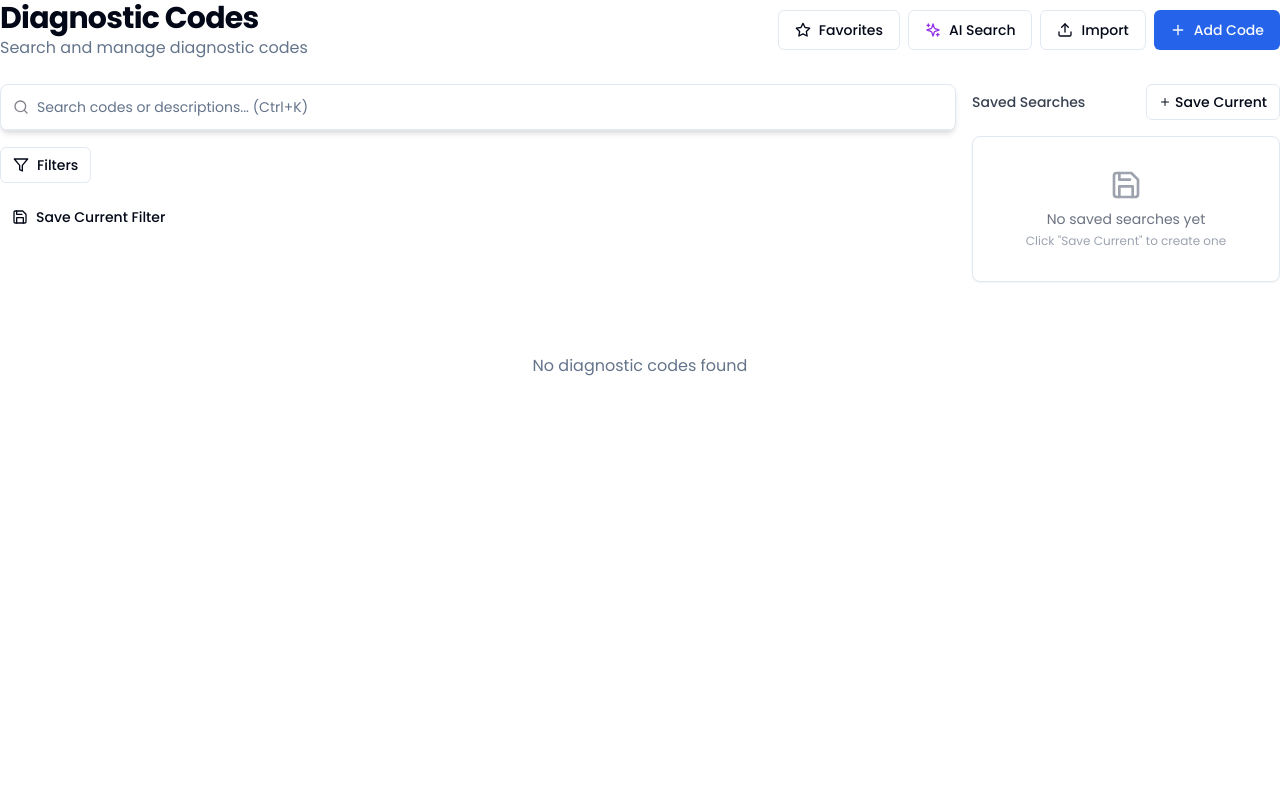
Test: HomePage › opens CodeFormModal when Add Code button is clicked
The image size is (1280, 800).
Click the button "Add Code". click: (1217, 30)
box: [1154,10,1279,50]
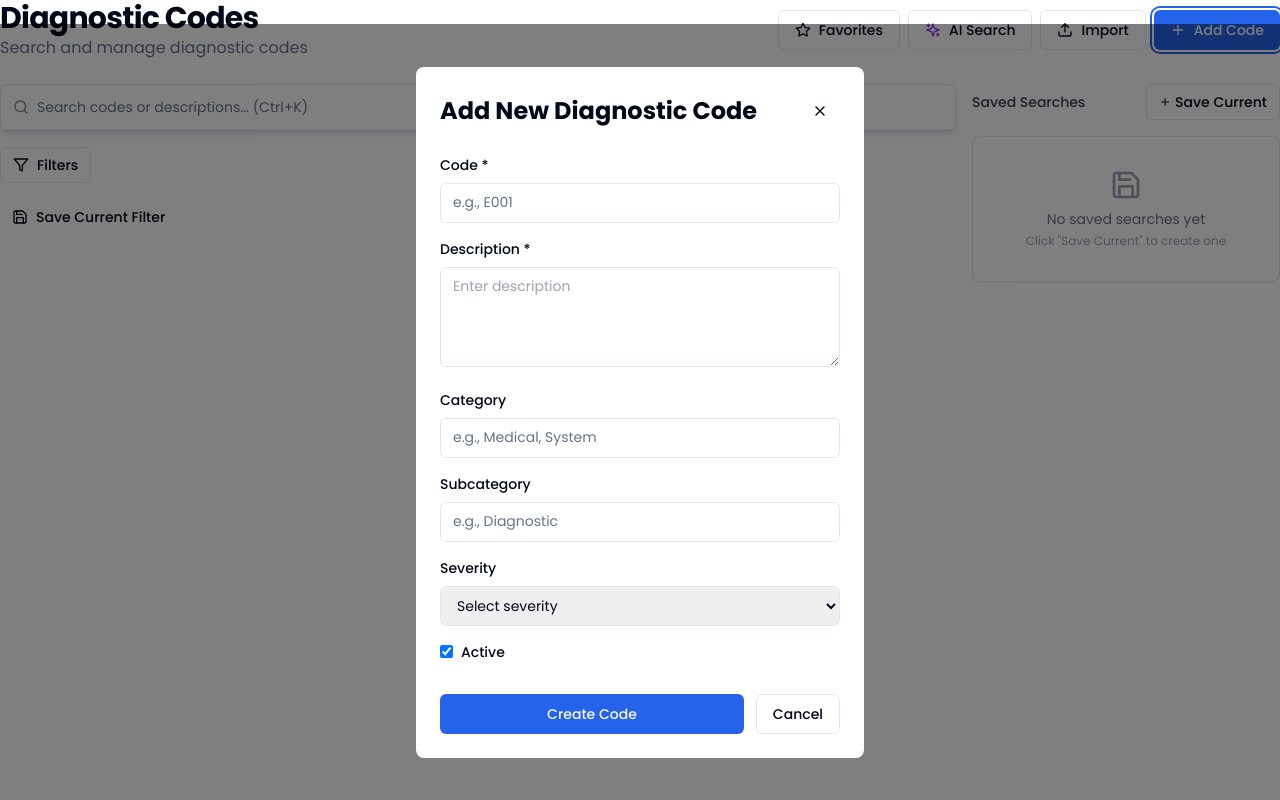
Expected: the heading "Add New Diagnostic Code" is shown, [440,94,757,126]
